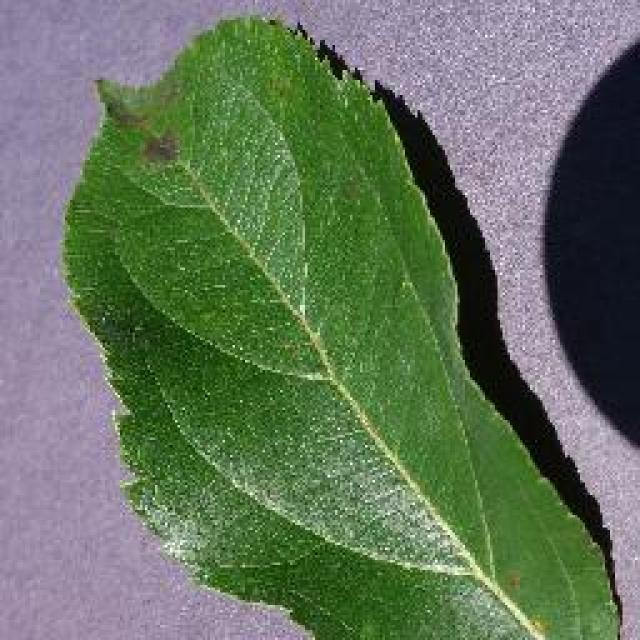apple scab disease: (58, 10, 622, 638)
